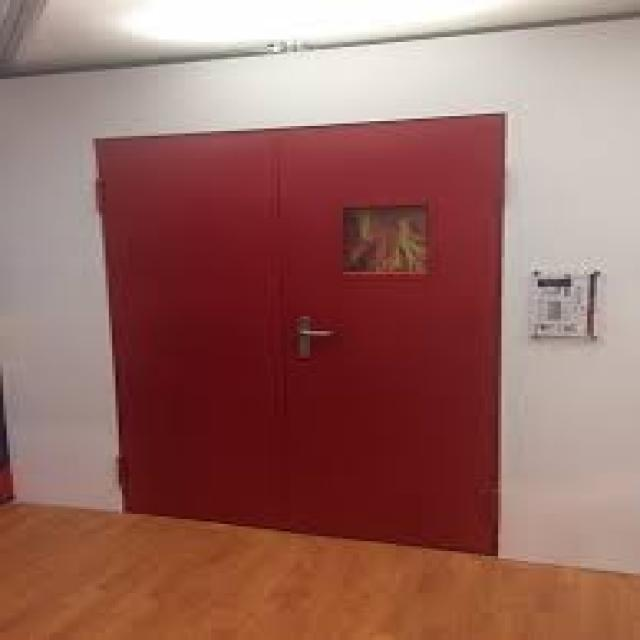door: (94, 111, 506, 556)
